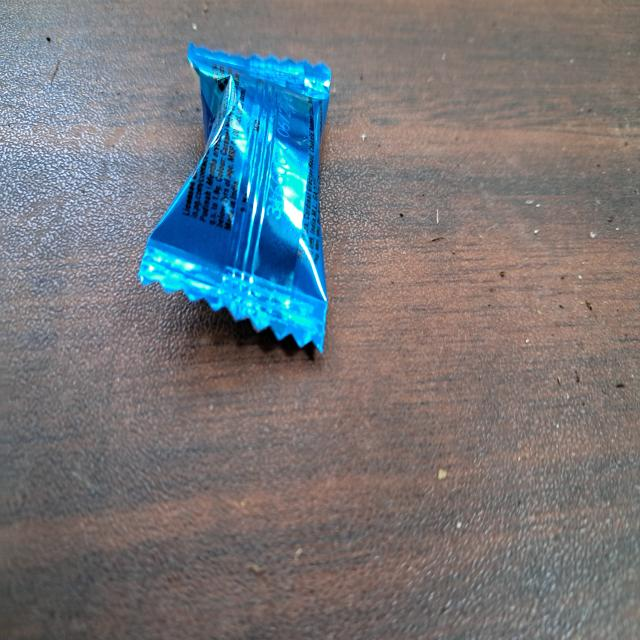Anorganik: (132, 25, 342, 385)
